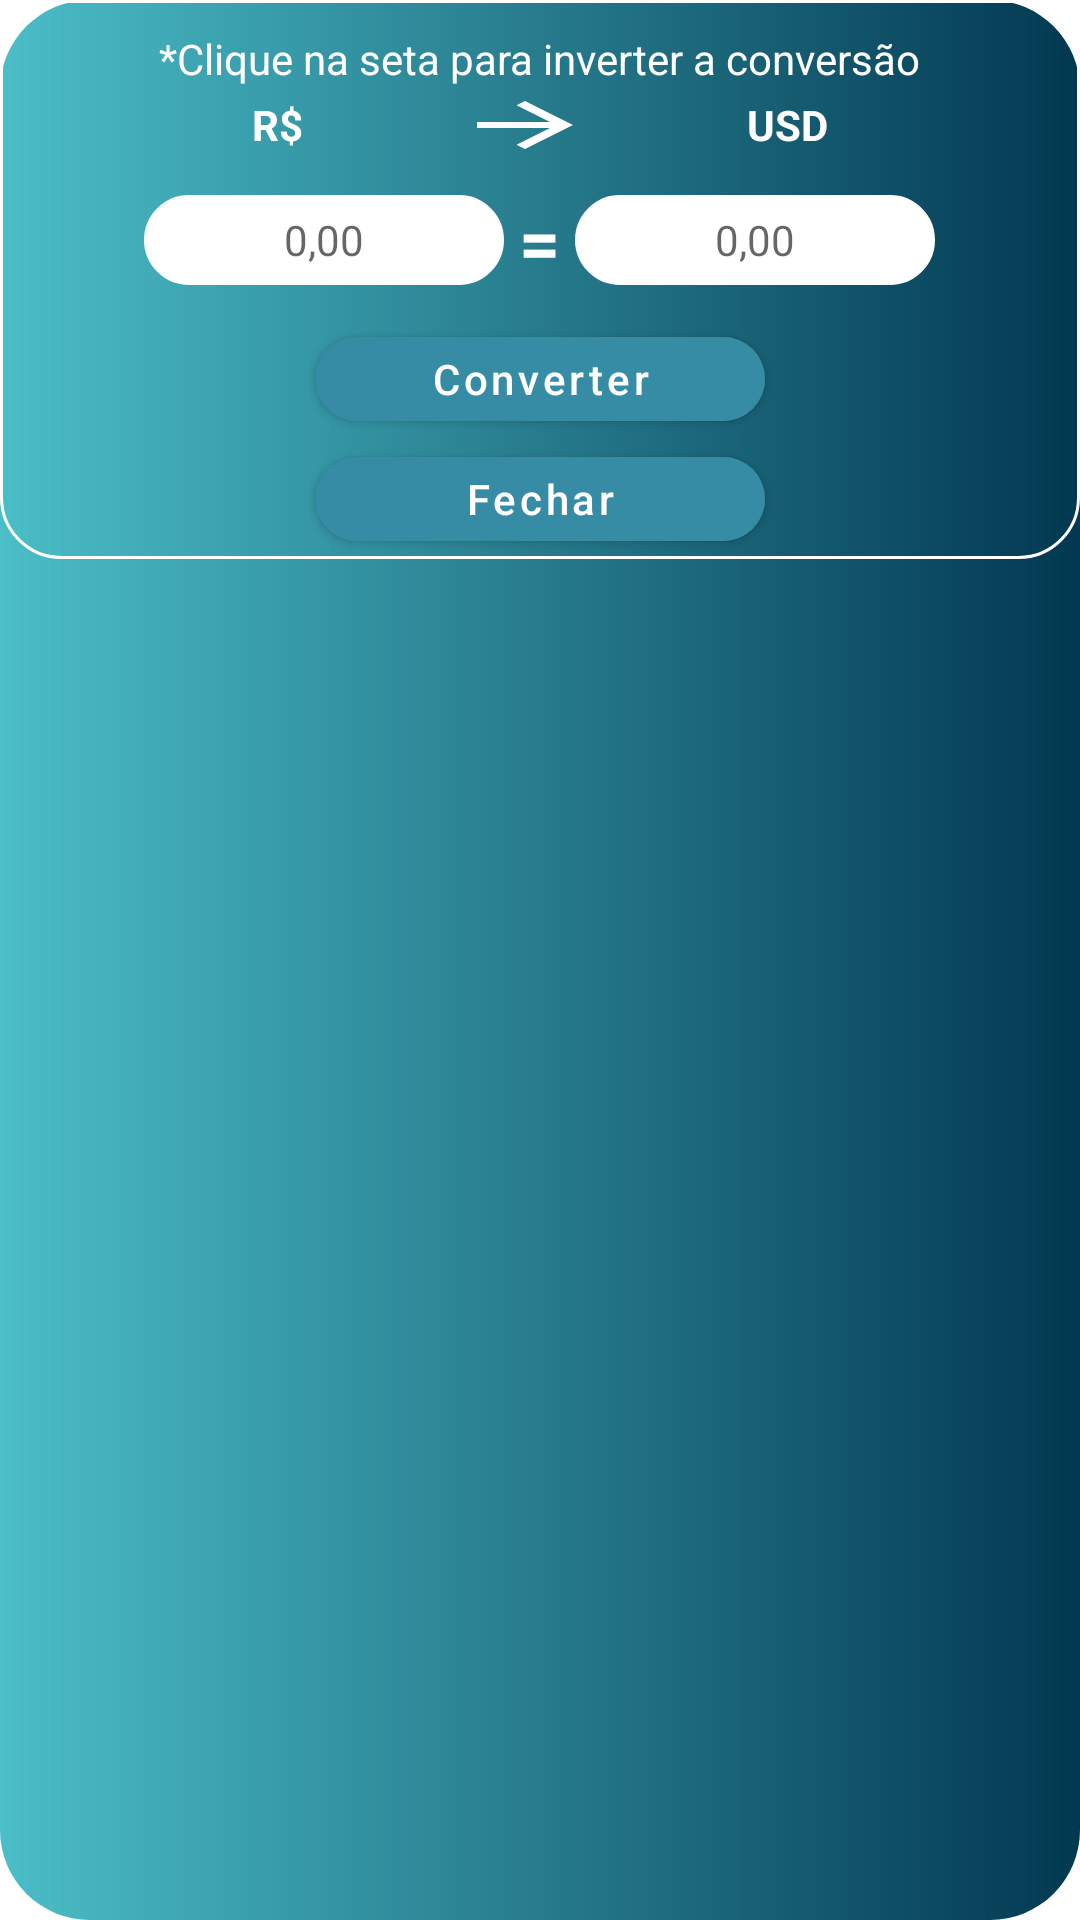

Icon click points for this 1080*1920 phone screenshot, format [x,y]:
arrow: [525,125]
